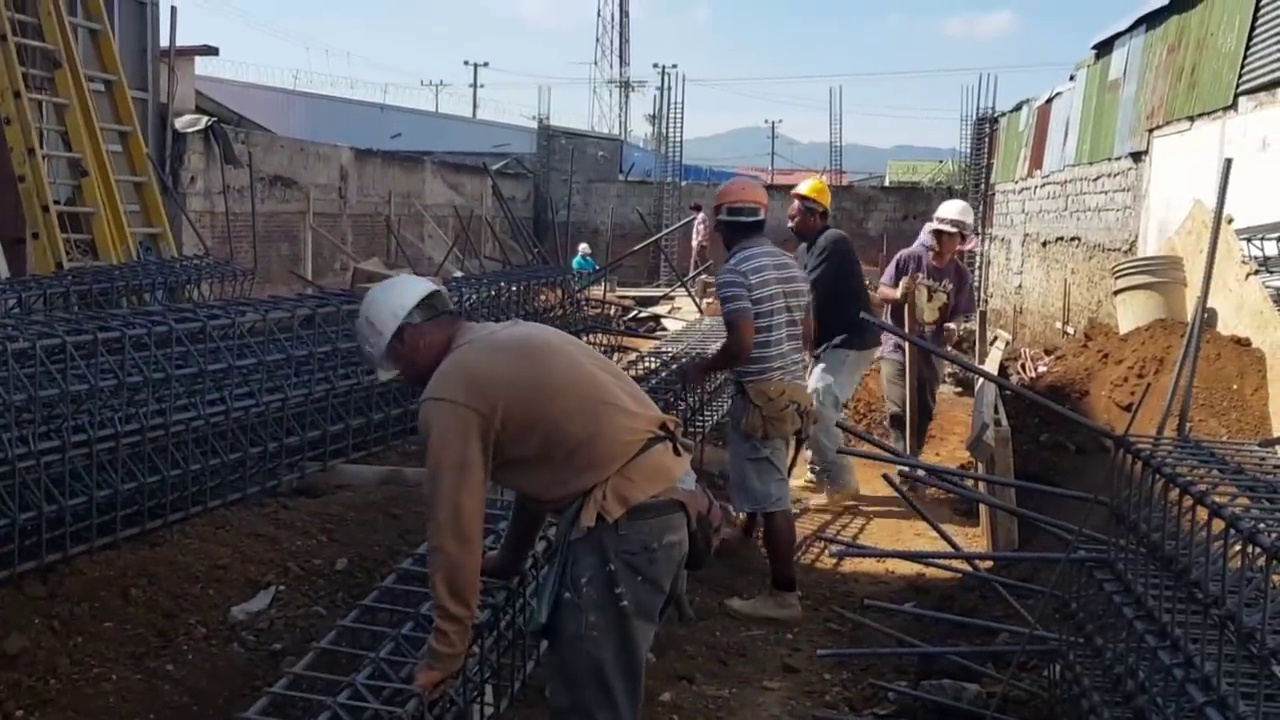helmet: (351, 273, 445, 386), (709, 175, 773, 223), (785, 175, 837, 217), (929, 204, 980, 239), (577, 243, 592, 255)
helmet-off: (688, 200, 704, 218)
helmet-on: (350, 267, 469, 404), (708, 176, 773, 259), (783, 174, 838, 243), (931, 202, 981, 264), (577, 243, 592, 260)
person: (351, 272, 698, 719), (696, 175, 803, 612), (881, 196, 990, 497), (790, 173, 878, 515), (685, 200, 713, 291), (571, 243, 600, 281)
